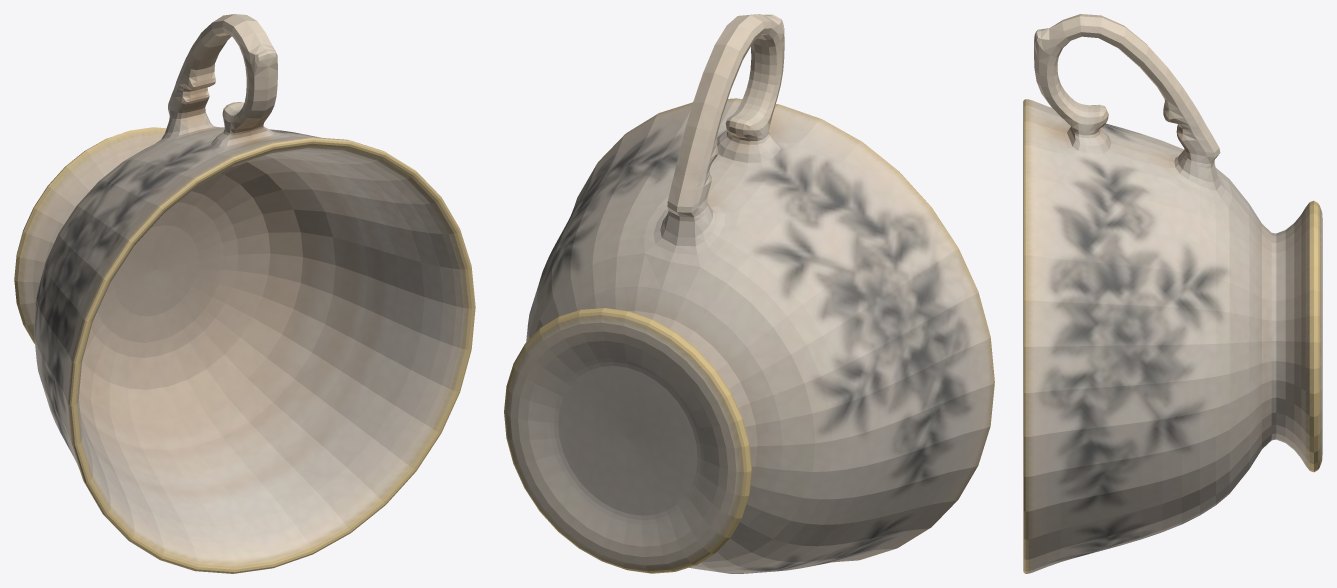
File: dining_cup.obj
3 views of the same model, side by side, from view 1: azimuth 30°, elevation 25°; view 2: azimuth 150°, elevation 25°; view 3: azimuth 270°, elevation 25° (orthographic). The views are drawn at different scales.
Visible parts, largest first — view 1: Circle.012; view 2: Circle.012; view 3: Circle.012.
Boxes of the visible parts, bbox=[...] form: Circle.012: bbox=[14, 14, 475, 573]; Circle.012: bbox=[504, 14, 994, 573]; Circle.012: bbox=[1023, 14, 1322, 573].
Bounding box in the file's own units: 0.1429 × 0.1777 × 0.09.
Materials: 1 (1 with a texture image).
